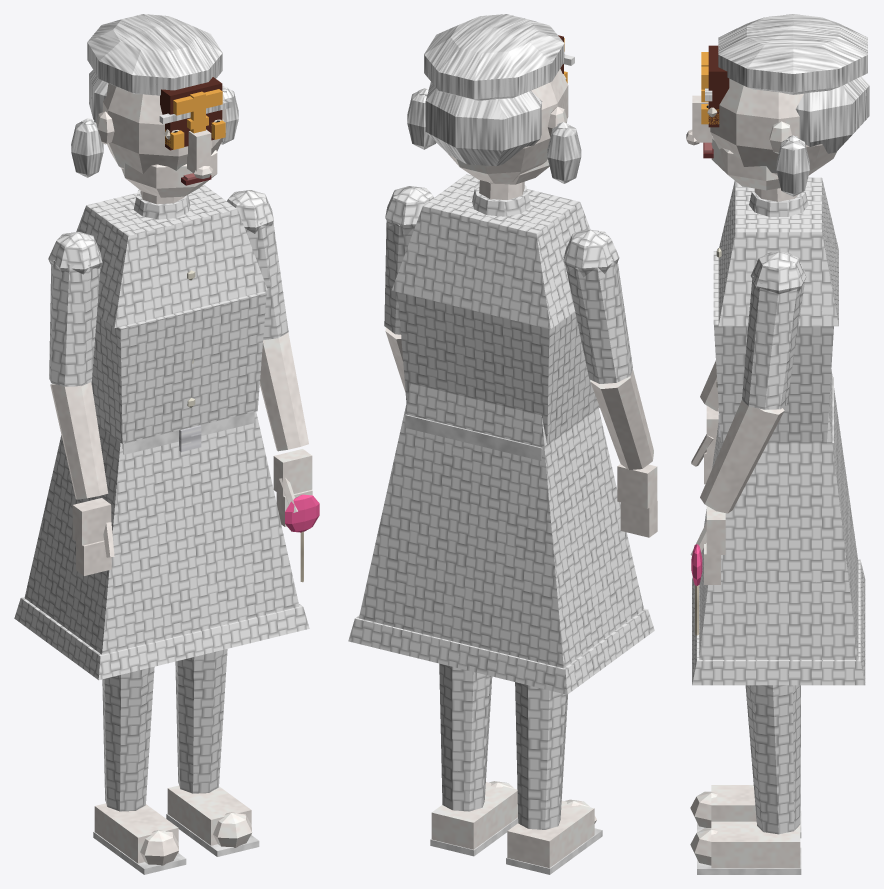
The model's file is figlia.obj.
3 renders of one model, left to right at view 1: azimuth 30°, elevation 25°; view 2: azimuth 150°, elevation 25°; view 3: azimuth 270°, elevation 25°, orthographic. The views are drawn at different scales.
Visible parts, largest first — view 1: tessuto_003, pelle_007, tessuto_000, capelli_017, tessuto_008, pelle_001, marchio_020, gomma_002, marchio_019, gomma_004, pelle_011, liscio_010; view 2: tessuto_003, capelli_017, tessuto_000, pelle_007, tessuto_008, pelle_001, gomma_004, gomma_002; view 3: tessuto_003, pelle_007, capelli_017, tessuto_000, pelle_001, tessuto_008, marchio_019, gomma_002, pelle_011, marchio_020, liscio_010.
Part boxes in pixels (box(x1,y1,x2,y2)): tessuto_003: box(24, 184, 299, 654); pelle_007: box(50, 83, 312, 575); tessuto_000: box(102, 649, 227, 811); capelli_017: box(71, 14, 238, 177); tessuto_008: box(14, 597, 309, 680); pelle_001: box(94, 785, 252, 865); marchio_020: box(165, 89, 225, 149); gomma_002: box(93, 813, 259, 874); marchio_019: box(160, 77, 222, 150); gomma_004: box(122, 412, 254, 454); pelle_011: box(187, 129, 212, 178); liscio_010: box(285, 494, 319, 532); tessuto_003: box(359, 174, 643, 668); capelli_017: box(407, 14, 581, 183); tessuto_000: box(439, 663, 567, 829); pelle_007: box(385, 69, 657, 537); tessuto_008: box(348, 608, 654, 694); pelle_001: box(431, 781, 596, 868); gomma_004: box(405, 414, 542, 460); gomma_002: box(430, 817, 602, 874); tessuto_003: box(699, 177, 858, 659); pelle_007: box(690, 78, 836, 584); capelli_017: box(718, 14, 869, 196); tessuto_000: box(745, 685, 800, 834); pelle_001: box(690, 785, 800, 868); tessuto_008: box(692, 559, 865, 685); marchio_019: box(708, 45, 729, 127); gomma_002: box(697, 811, 801, 874); pelle_011: box(686, 95, 712, 145); marchio_020: box(701, 52, 719, 124); liscio_010: box(691, 544, 702, 585).
Bounding box in the file's own units: 0.3812 × 1.24 × 0.2505.
Materials: 21 (13 with a texture image).
